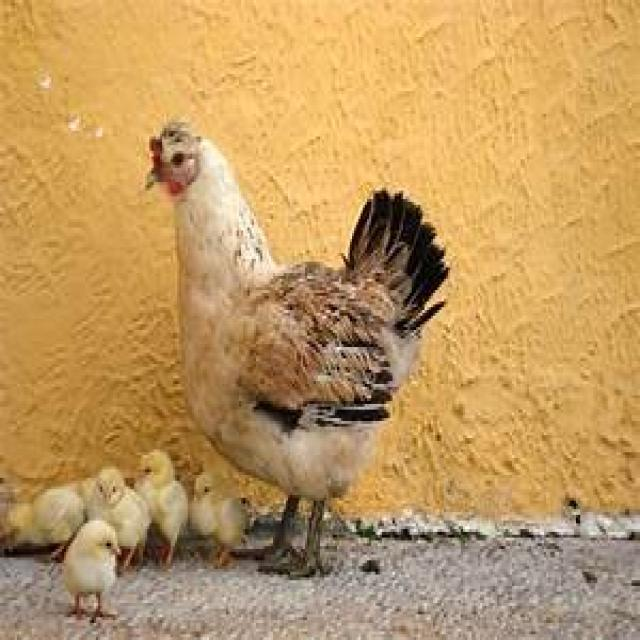hen: (150, 123, 448, 566)
